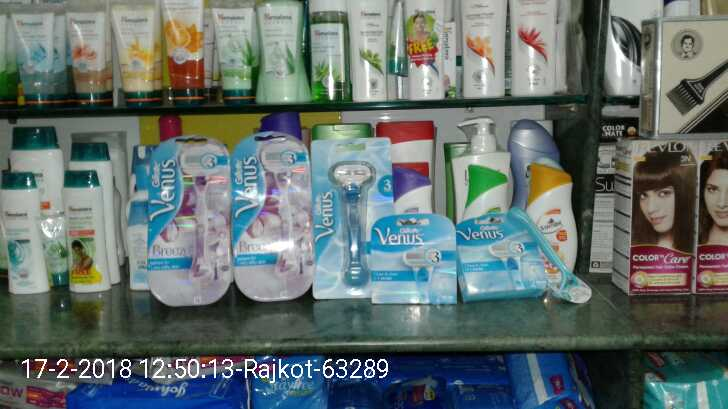venus: (142, 138, 229, 306), (227, 130, 311, 303), (313, 136, 369, 297), (371, 207, 456, 305), (456, 219, 547, 302)
